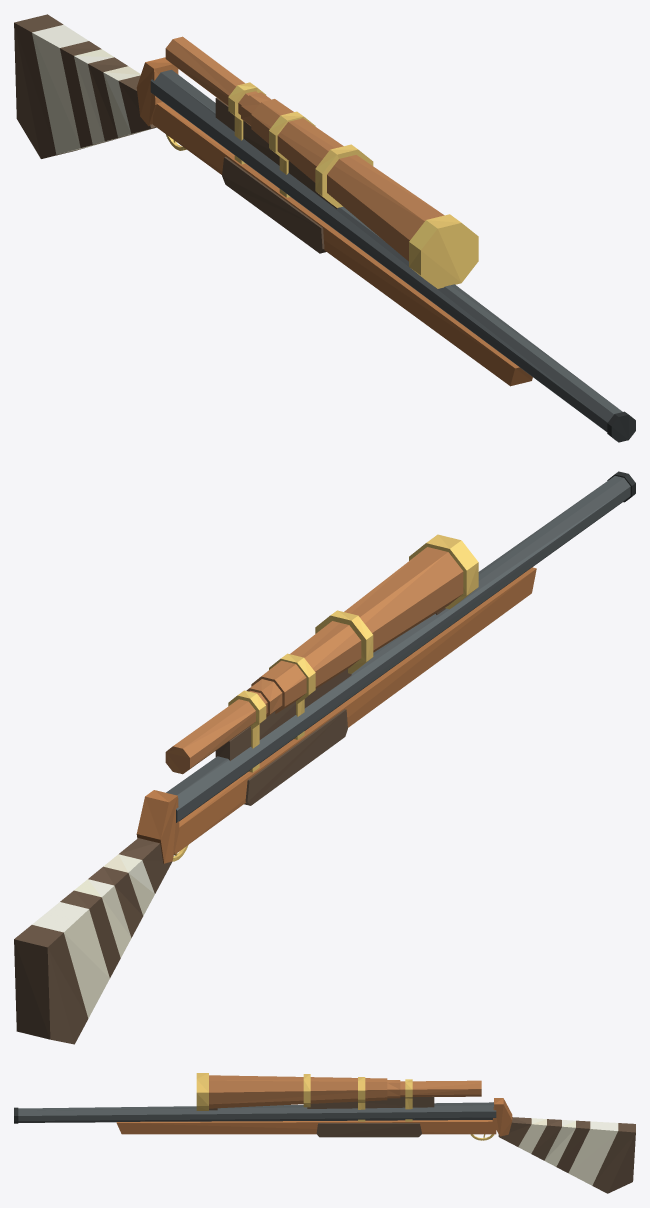
Rendered from rifle_catalejo.fbx.
The picture shows the model from 3 angles, top to bottom: view 1: azimuth 30°, elevation 25°; view 2: azimuth 150°, elevation 25°; view 3: azimuth 270°, elevation 25°; orthographic projection. The views are drawn at different scales.
Visible parts, largest first — view 1: rifle_catalejo; view 2: rifle_catalejo; view 3: rifle_catalejo.
Part boxes in pixels (left/top/right/bottom): rifle_catalejo: left=14, top=14, right=635, bottom=442; rifle_catalejo: left=14, top=471, right=635, bottom=1044; rifle_catalejo: left=14, top=1073, right=635, bottom=1193.
Bounding box in the file's own units: 0.0759 × 0.2716 × 1.35.
Materials: 1 (1 with a texture image).
